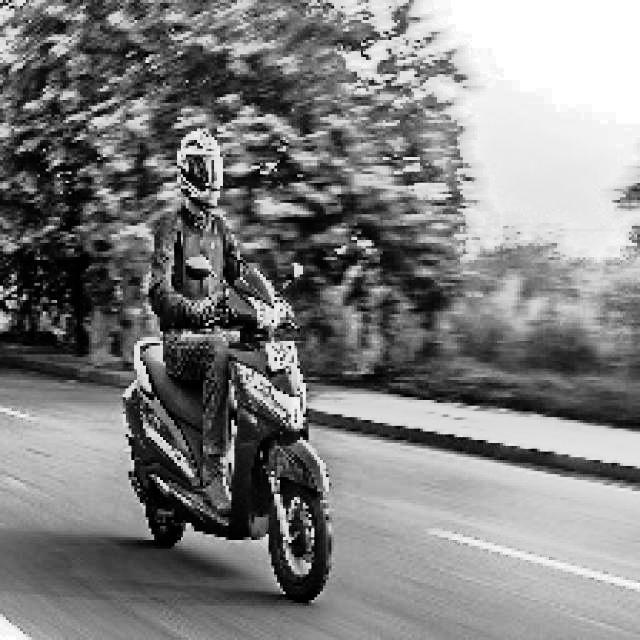Bike: (128, 278, 344, 592)
